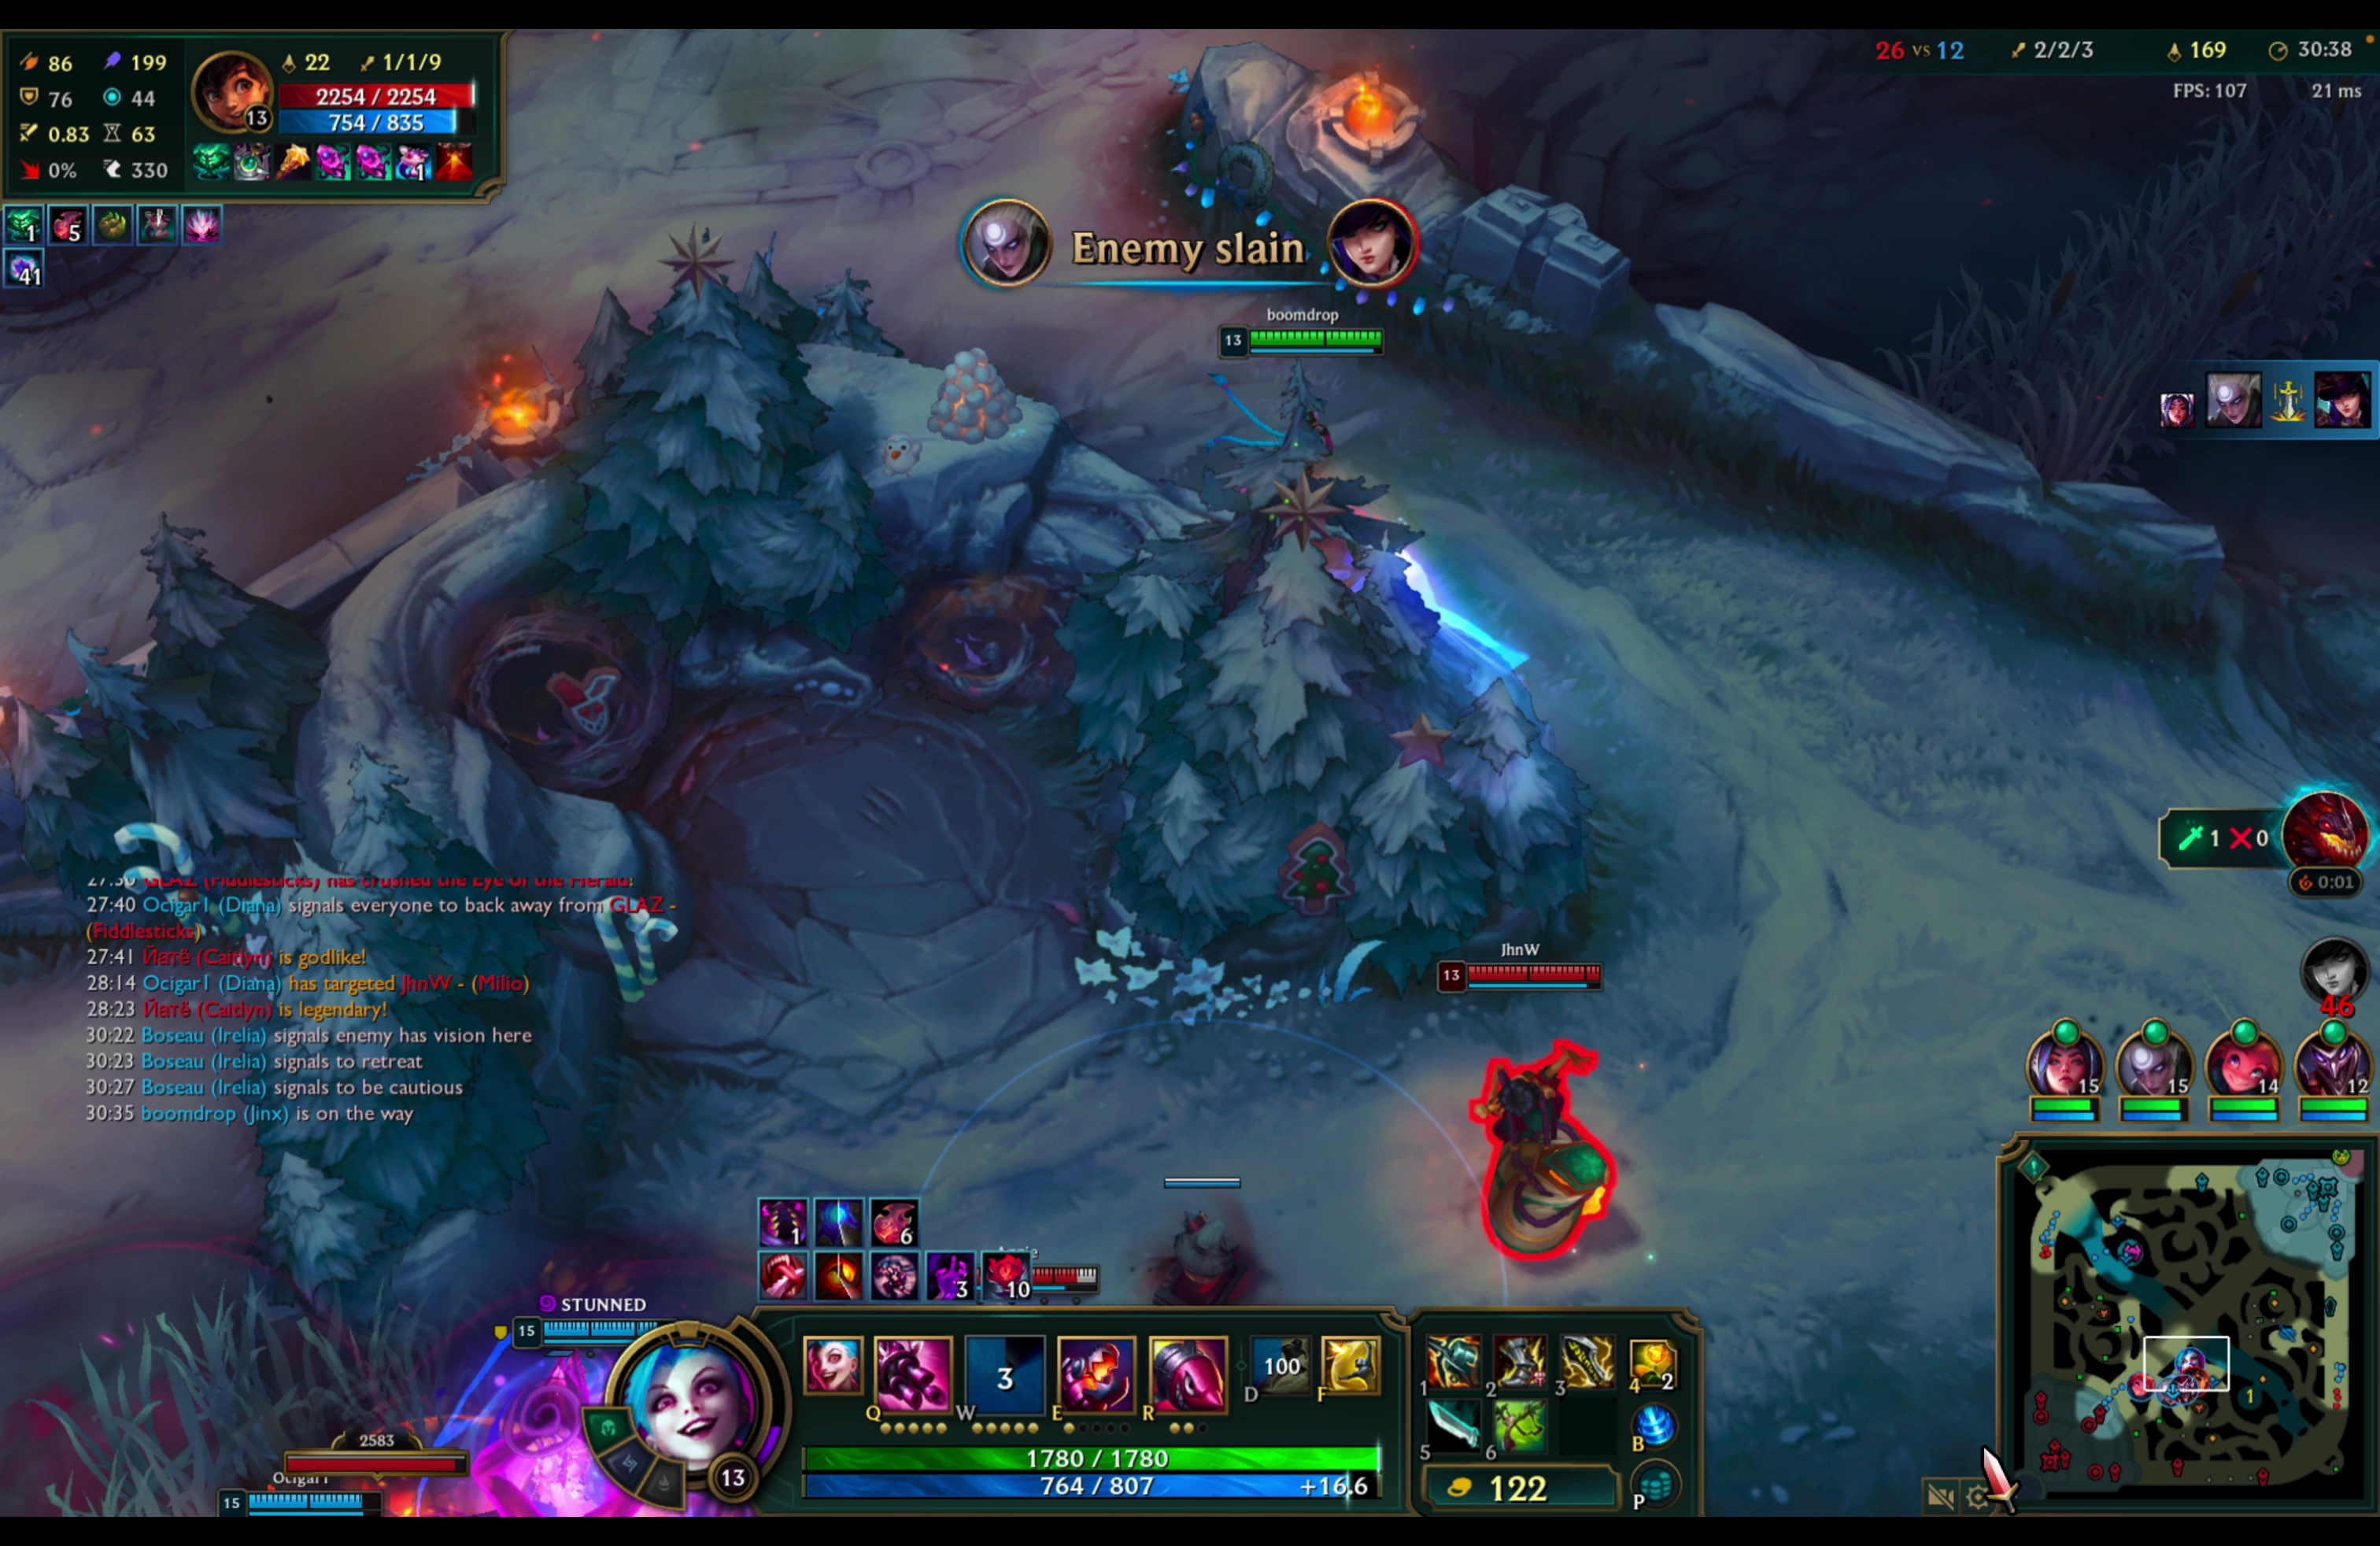JINX_W_PROJECTILE: (1197, 298, 1528, 720)
